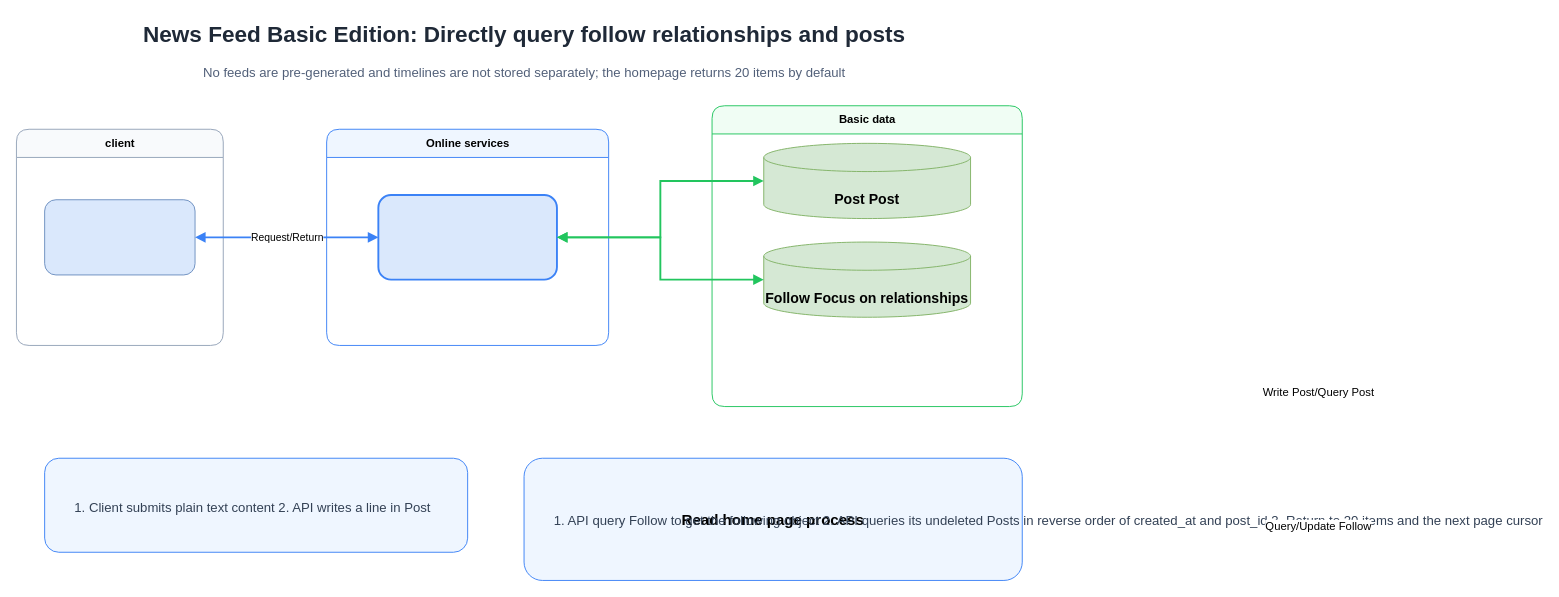
Image size: 1559x597. Some labels were removed from this diagram. The box of each missing label's shape, as (x1, y1, x2, y2) in pixels:
News Feed API Posts · Follow · Feed: (377, 194, 557, 280)
Posting process: (44, 457, 468, 552)
Web/Mobile Post · Follow · Home Page: (44, 199, 195, 275)
